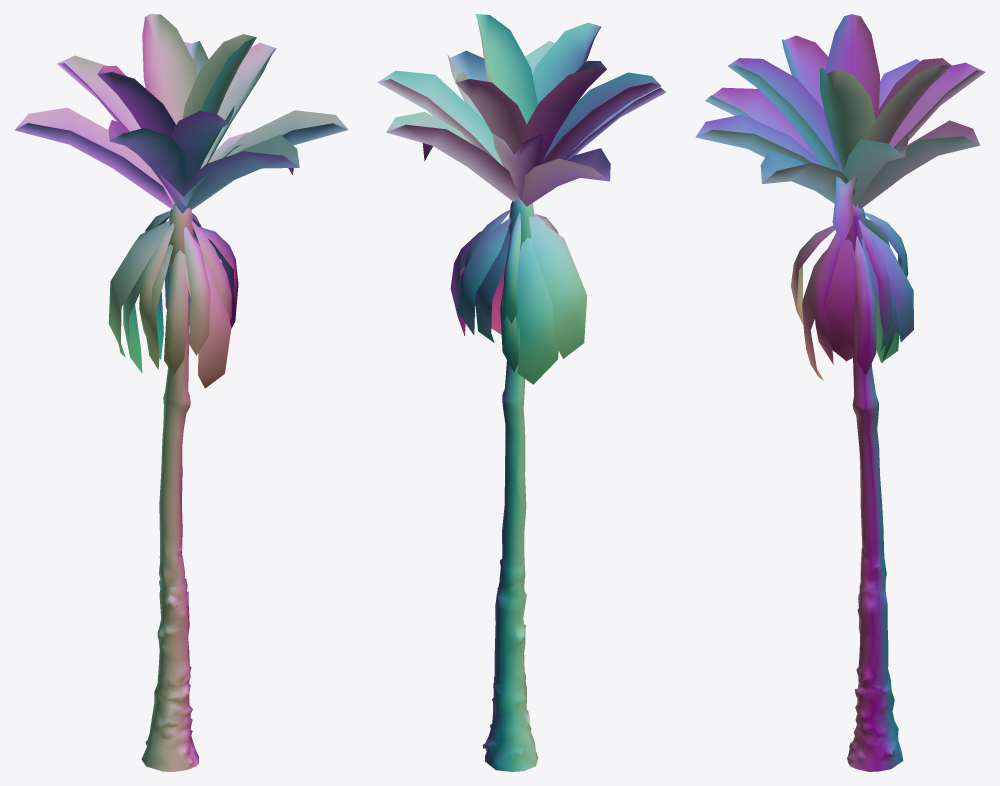
The picture shows the model from 3 angles, left to right: view 1: azimuth 30°, elevation 25°; view 2: azimuth 150°, elevation 25°; view 3: azimuth 270°, elevation 25°; orthographic projection.
Visible parts, largest first — view 1: SM_TR_DatePalm_15m; view 2: SM_TR_DatePalm_15m; view 3: SM_TR_DatePalm_15m.
Part boxes in pixels (x1,y1,x2,y2): SM_TR_DatePalm_15m: [15, 14, 347, 771]; SM_TR_DatePalm_15m: [377, 14, 666, 771]; SM_TR_DatePalm_15m: [695, 14, 985, 771].
Bounding box in the file's own units: 211 × 206 × 574.
